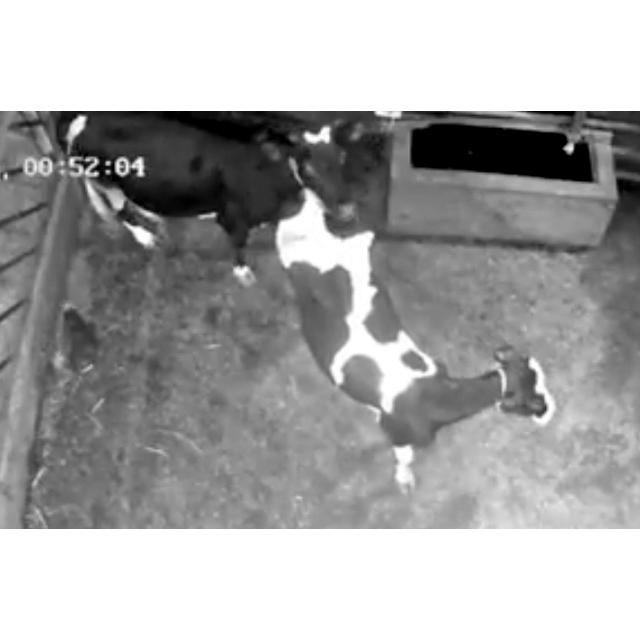propping: (236, 115, 400, 269)
